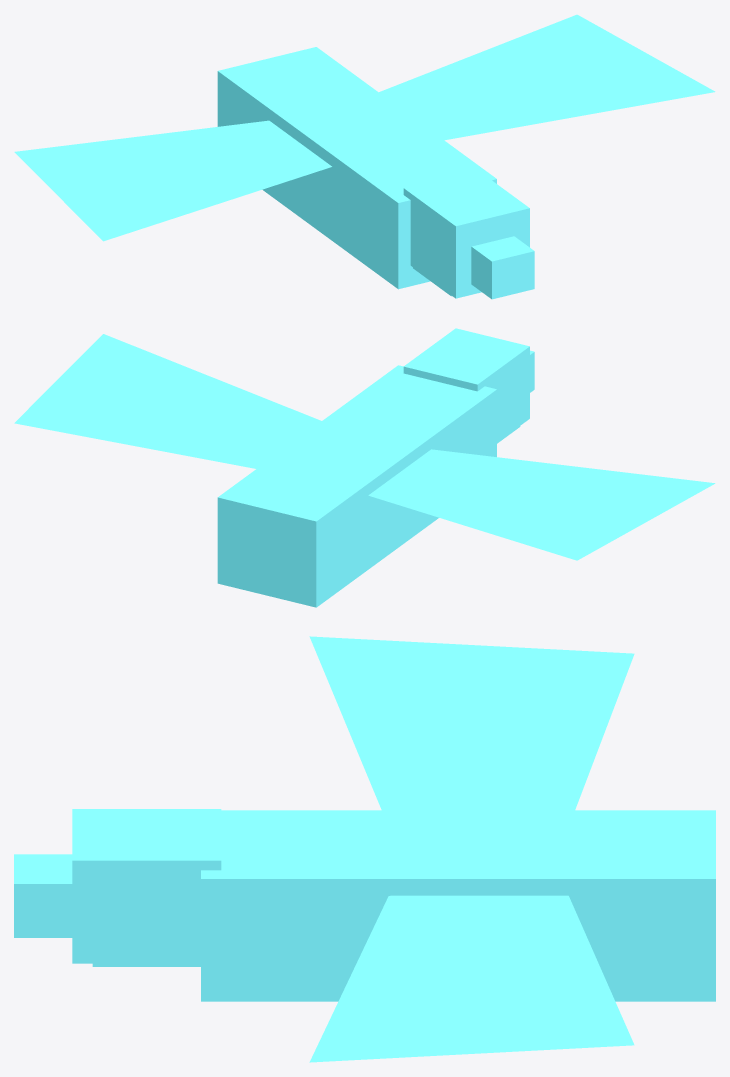
Rendered from aether.glb.
The picture shows the model from 3 angles, top to bottom: view 1: azimuth 30°, elevation 25°; view 2: azimuth 150°, elevation 25°; view 3: azimuth 270°, elevation 25°; orthographic projection. The views are drawn at different scales.
Visible parts, largest first — view 1: body, wing_R, wing_L, head; view 2: body, wing_R, wing_L, head; view 3: body, wing_L, wing_R, head.
Part boxes in pixels (box(x1,y1,x2,y2)): body: box(217, 47, 496, 296); wing_R: box(379, 14, 715, 140); wing_L: box(14, 120, 331, 241); head: box(403, 170, 534, 299); body: box(217, 365, 520, 607); wing_R: box(14, 334, 321, 468); wing_L: box(368, 449, 715, 560); head: box(403, 328, 534, 442); body: box(92, 810, 715, 1001); wing_L: box(309, 636, 634, 810); wing_R: box(309, 895, 634, 1062); head: box(14, 809, 221, 963).
Size of the model in its own units: 3.72 by 0.54 by 2.59.
